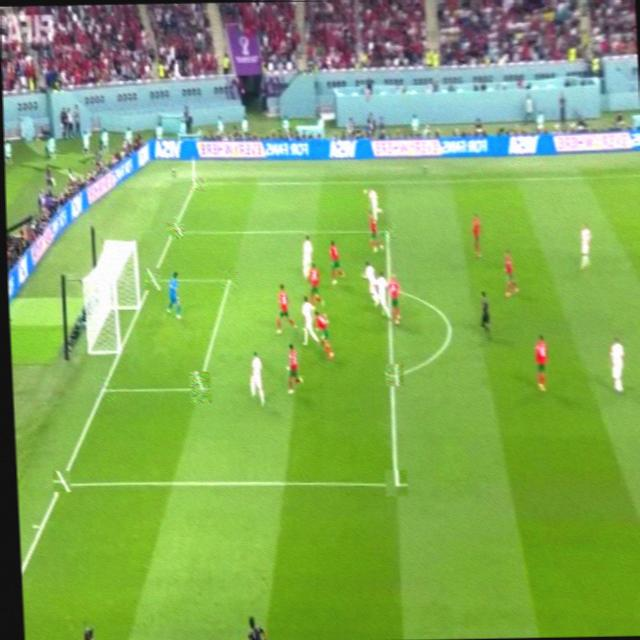bigarea_bottom_inner: (385, 469, 408, 495)
bigarea_bottom_outter: (53, 470, 71, 494)
bigarea_top_inner: (381, 222, 396, 239)
bigarea_top_outter: (167, 222, 184, 238)
bottom_arc_area_intersection: (385, 363, 403, 385)
corner: (188, 176, 205, 190)
smallarea_bottom_inner: (188, 371, 211, 402)
smallarea_bottom_outter: (94, 374, 115, 400)
smallarea_top_inner: (221, 268, 238, 288)
smallarea_top_outter: (144, 267, 161, 289)
